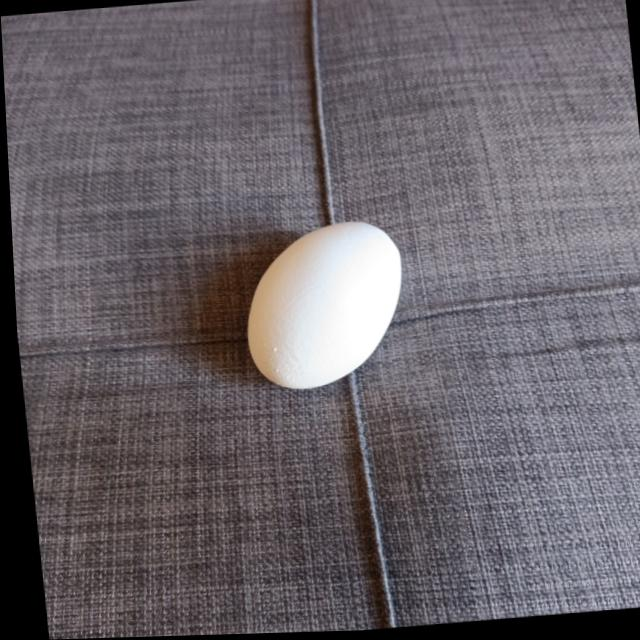egg: (232, 220, 409, 391)
